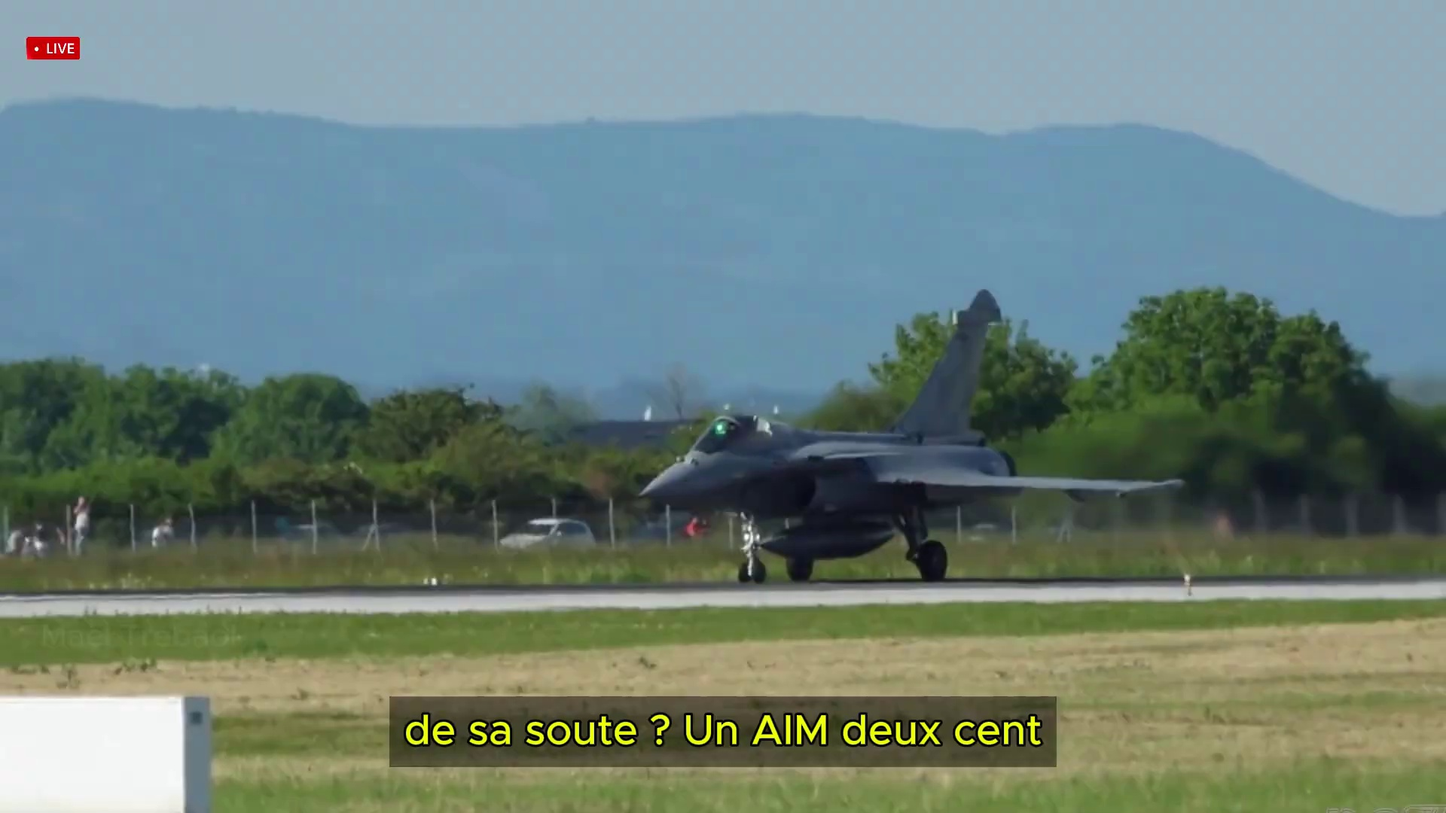Rafale: (639, 292, 1173, 583)
